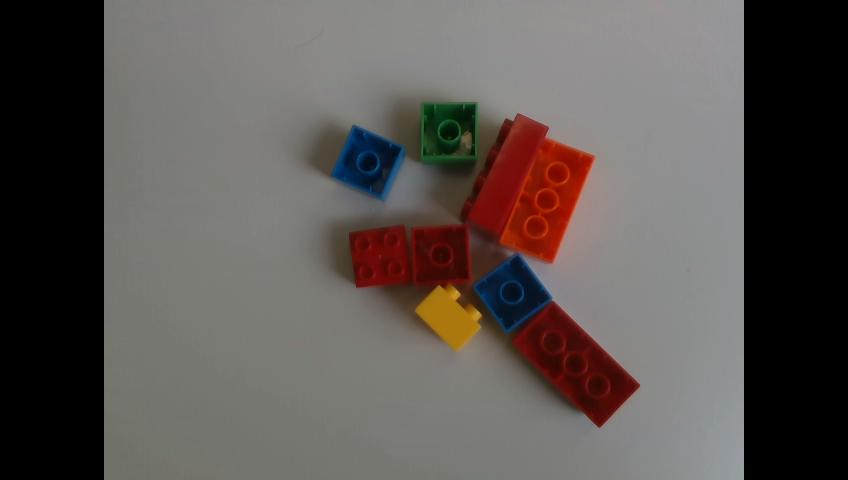2x2_blue: (472, 252, 555, 332), (329, 124, 408, 201)
2x2_green: (420, 101, 477, 166)
2x2_red: (349, 222, 415, 288), (412, 224, 471, 286)
2x2_yellow: (412, 282, 484, 353)
4x2_orange: (499, 138, 596, 268)
4x2_red: (512, 302, 645, 428), (460, 111, 552, 245)
